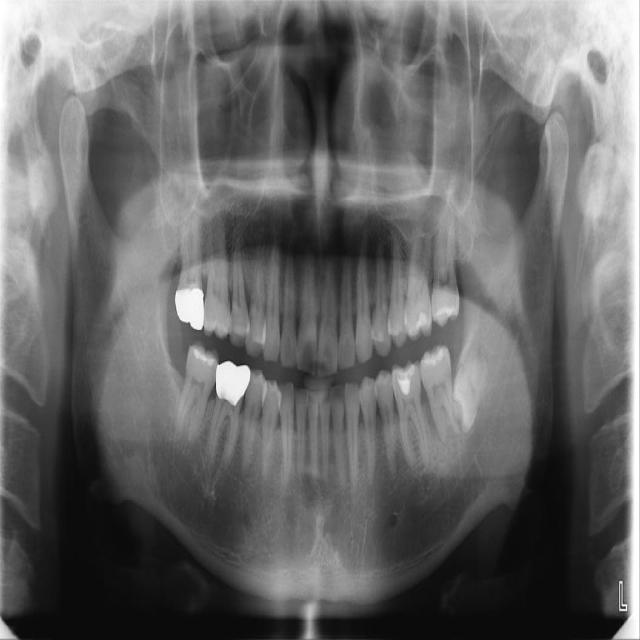Crown: (215, 361, 250, 408), (175, 288, 204, 329)
Filling: (192, 347, 217, 366), (429, 349, 443, 364), (399, 378, 411, 394)
impacted tooth: (454, 336, 491, 428)
